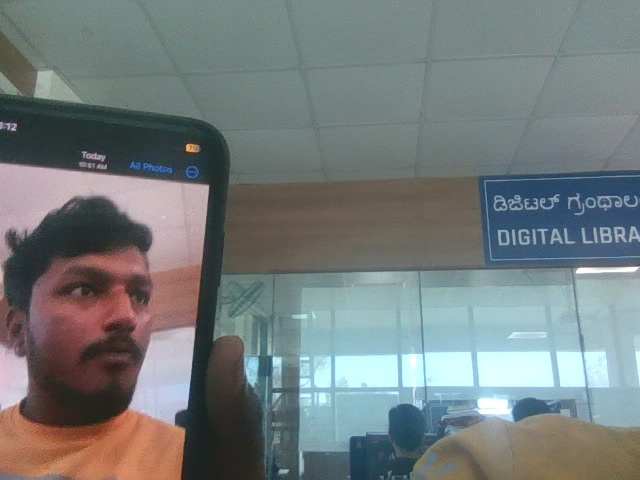fake: (13, 183, 178, 417)
